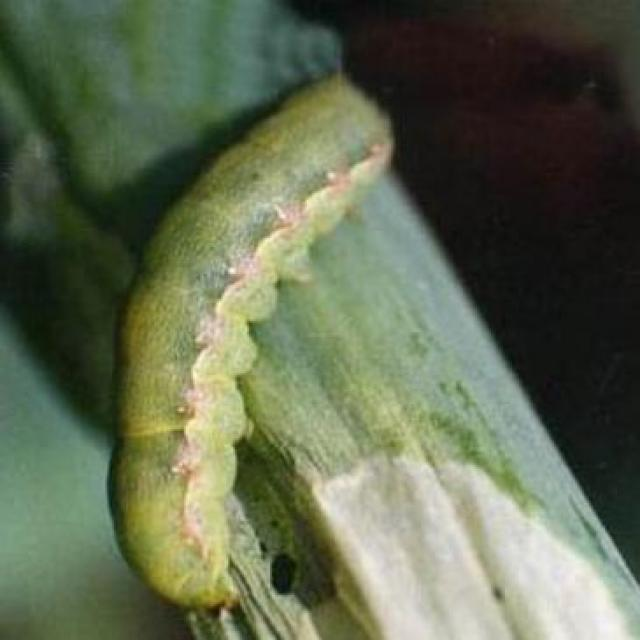BeetArmyWorm-Larva-: (114, 63, 414, 622)
